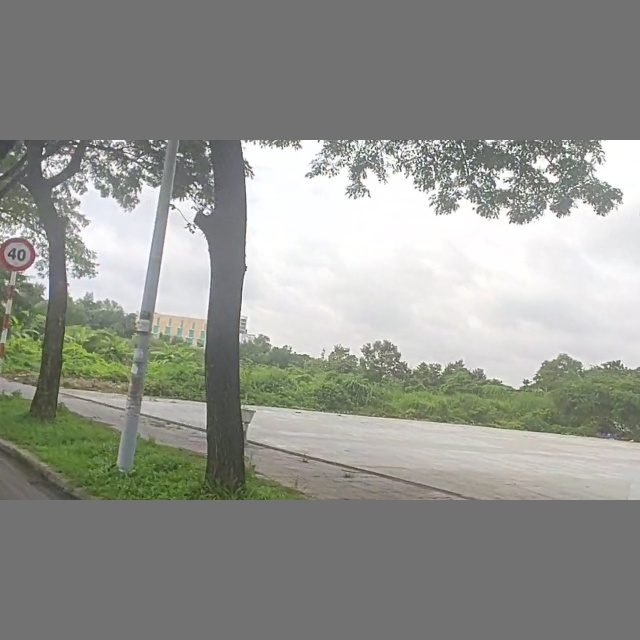P.127*40: (3, 236, 36, 271)
